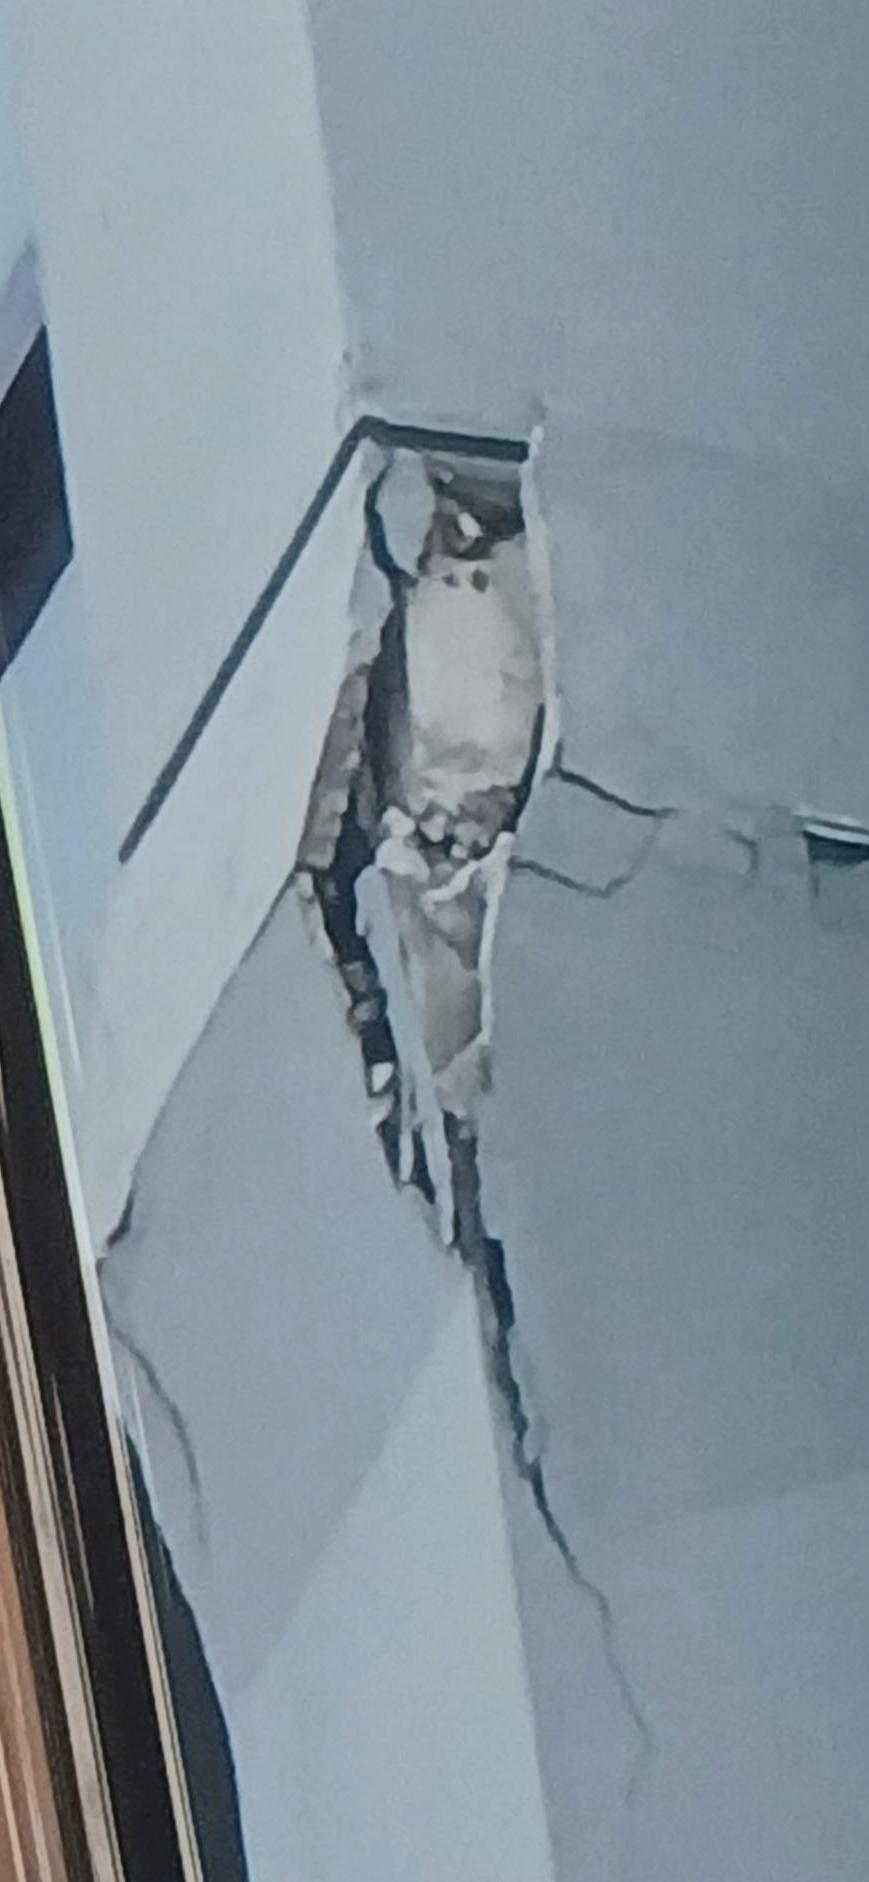High: (79, 362, 868, 1823)
